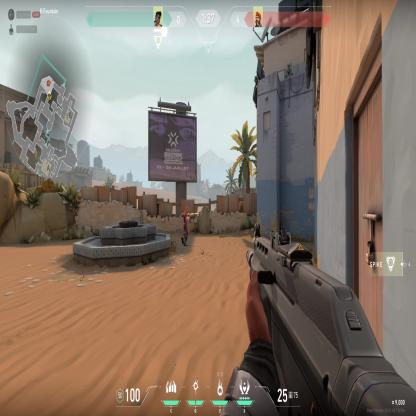enemy: (180, 206, 190, 248)
